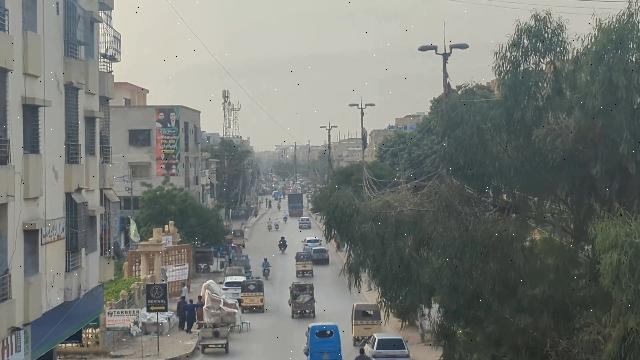Bike: (263, 264, 270, 278)
Car: (364, 334, 410, 360), (219, 275, 247, 298), (311, 247, 330, 265)
Cart: (197, 327, 230, 356)
Person: (176, 295, 187, 332), (184, 300, 195, 333), (194, 294, 205, 324), (261, 257, 271, 269)
Rickshaw: (302, 321, 342, 360), (350, 301, 381, 346), (286, 280, 319, 320), (239, 279, 267, 316), (293, 250, 315, 279)
